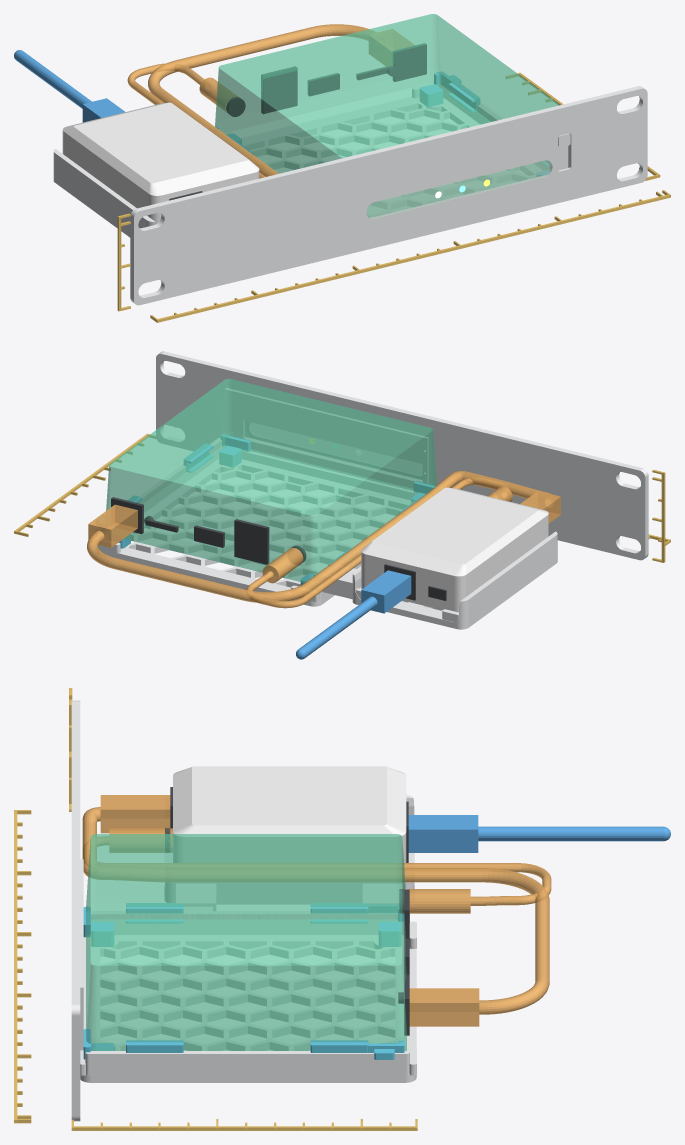
File: home-assistant-green-rack-compact.glb
The picture shows the model from 3 angles, top to bottom: view 1: azimuth 30°, elevation 25°; view 2: azimuth 150°, elevation 25°; view 3: azimuth 270°, elevation 25°; orthographic projection. The views are drawn at different scales.
Visible parts, largest first — view 1: White rack mount, Home Assistant Green, TP-Link TL-PD30G-M2, Green tray — standard, Ethernet cable — bend-radius warning, 10 mm dimension rulers, Home Assistant Green connector faces, LED window insert, TP-Link cradle side walls, Incoming PoE cable, DC cable — bend-radius warning, Green retention — segmented rails + rear latch (+3 smaller); view 2: Home Assistant Green, White rack mount, Green tray — standard, TP-Link TL-PD30G-M2, Ethernet cable — bend-radius warning, LED shutter retainer, Home Assistant Green connector faces, TP-Link cradle side walls, DC cable — bend-radius warning, LED window insert, Incoming PoE cable, Green retention — segmented rails + rear latch (+3 smaller); view 3: Home Assistant Green, Green tray — standard, TP-Link TL-PD30G-M2, Ethernet cable — bend-radius warning, DC cable — bend-radius warning, Green retention — segmented rails + rear latch, White rack mount, Incoming PoE cable, 10 mm dimension rulers, TP-Link cradle side walls, TP-Link cradle floor, Home Assistant Green connector faces (+1 smaller).
Boxes of the visible parts, x1=… form: White rack mount: x1=130, y1=86, x2=647, y2=305; Home Assistant Green: x1=215, y1=14, x2=558, y2=217; TP-Link TL-PD30G-M2: x1=62, y1=102, x2=259, y2=223; Green tray — standard: x1=225, y1=83, x2=501, y2=217; Ethernet cable — bend-radius warning: x1=148, y1=24, x2=414, y2=176; 10 mm dimension rulers: x1=117, y1=72, x2=670, y2=322; Home Assistant Green connector faces: x1=226, y1=43, x2=426, y2=116; LED window insert: x1=366, y1=160, x2=552, y2=218; TP-Link cradle side walls: x1=53, y1=148, x2=155, y2=230; Incoming PoE cable: x1=14, y1=50, x2=125, y2=122; DC cable — bend-radius warning: x1=127, y1=63, x2=265, y2=178; Green retention — segmented rails + rear latch: x1=216, y1=71, x2=548, y2=175; Home Assistant Green: x1=106, y1=379, x2=436, y2=582; White rack mount: x1=156, y1=351, x2=648, y2=599; Green tray — standard: x1=98, y1=438, x2=416, y2=606; TP-Link TL-PD30G-M2: x1=361, y1=487, x2=548, y2=612; Ethernet cable — bend-radius warning: x1=87, y1=471, x2=560, y2=602; LED shutter retainer: x1=225, y1=388, x2=428, y2=483; Home Assistant Green connector faces: x1=111, y1=497, x2=306, y2=564; TP-Link cradle side walls: x1=352, y1=531, x2=557, y2=623; DC cable — bend-radius warning: x1=246, y1=478, x2=512, y2=608; LED window insert: x1=245, y1=422, x2=421, y2=478; Incoming PoE cable: x1=296, y1=570, x2=411, y2=659; Green retention — segmented rails + rear latch: x1=119, y1=434, x2=435, y2=585; Home Assistant Green: x1=86, y1=834, x2=406, y2=1050; Green tray — standard: x1=80, y1=911, x2=416, y2=1082; TP-Link TL-PD30G-M2: x1=173, y1=766, x2=406, y2=862; Ethernet cable — bend-radius warning: x1=82, y1=795, x2=549, y2=1026; DC cable — bend-radius warning: x1=83, y1=828, x2=551, y2=913; Green retention — segmented rails + rear latch: x1=83, y1=903, x2=404, y2=1059; White rack mount: x1=71, y1=700, x2=402, y2=1121; Incoming PoE cable: x1=408, y1=815, x2=670, y2=852; 10 mm dimension rulers: x1=14, y1=688, x2=417, y2=1130; TP-Link cradle side walls: x1=164, y1=795, x2=414, y2=896; TP-Link cradle floor: x1=164, y1=853, x2=414, y2=904; Home Assistant Green connector faces: x1=398, y1=889, x2=409, y2=1035.
Size of what is drawn, in the model's own units: 268 by 44.45 by 227.
